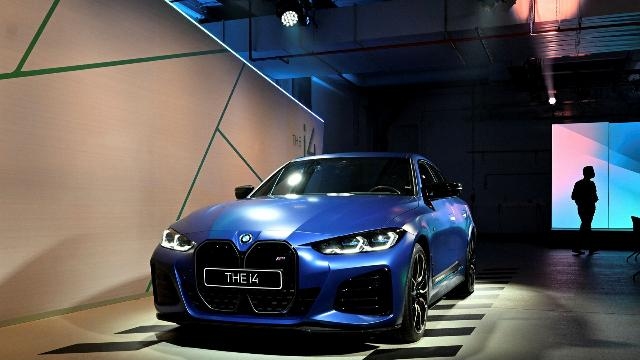bmw: (149, 150, 477, 344)
